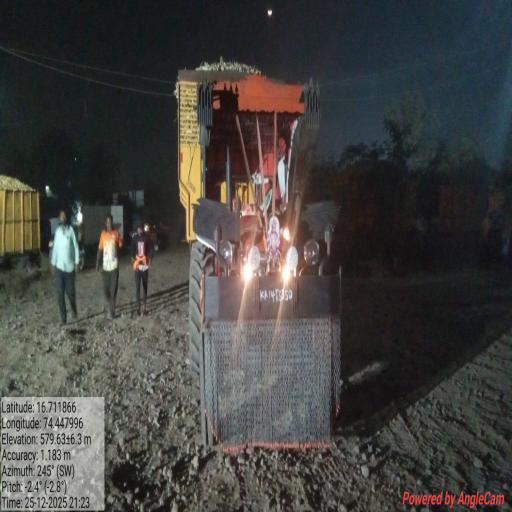number_plate: (258, 283, 298, 307)
